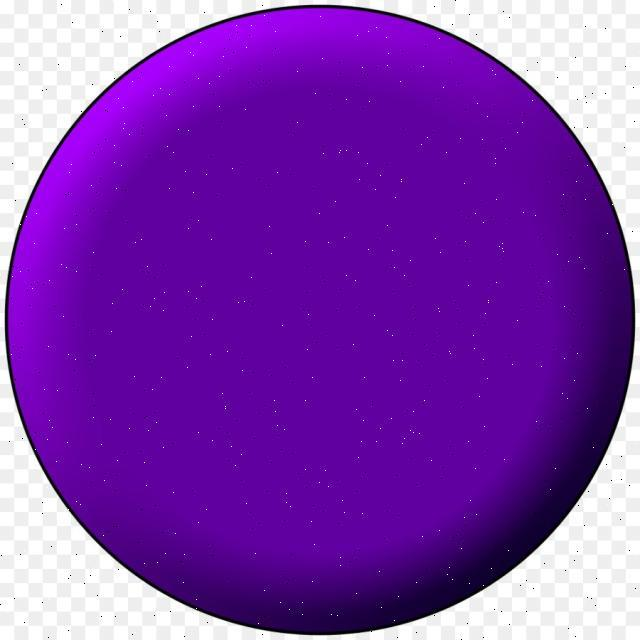Circle: (7, 6, 636, 635)
